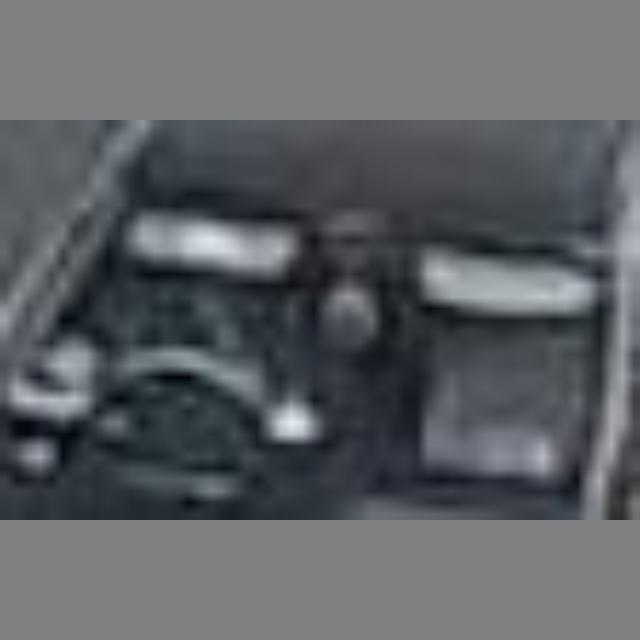pakai: (114, 269, 331, 451)
